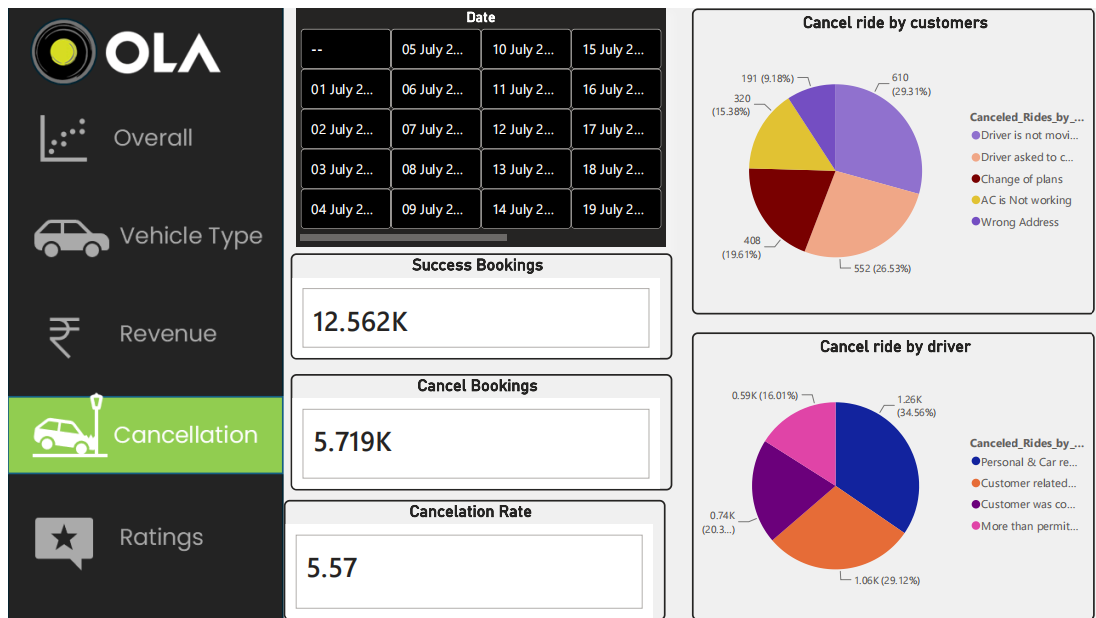

The page's visual inventory and layout, read from the dashboard file:
{"tool":"powerbi","page":{"name":"cancellation","canvas":[1280,720],"ordinal":3},"visuals":[{"type":"pieChart","title":"Cancel ride by customers","fields":{"Category":["July.Canceled_Rides_by_Customer"],"Y":["CountNonNull(July.Canceled_Rides_by_Customer)"]},"box":[803.6,0,475.7,360.1],"z":0},{"type":"pieChart","title":"Cancel ride by driver","fields":{"Category":["July.Canceled_Rides_by_Driver"],"Y":["CountNonNull(July.Canceled_Rides_by_Driver)"]},"box":[803.6,381,475.7,339.3],"z":1000},{"type":"advancedSlicerVisual","fields":{"Values":["July.Date"]},"box":[339.3,0,434,280.5],"z":2000},{"type":"cardVisual","title":"Success Bookings","fields":{"Data":["Count(July.Customer_ID)"]},"box":[331.7,288.1,449.2,125.1],"z":3000},{"type":"cardVisual","title":"Cancel Bookings","fields":{"Data":["Count(July.Customer_ID)"]},"box":[331.7,430.3,449.2,136.5],"z":4000},{"type":"cardVisual","title":"Cancelation Rate","fields":{"Data":["July.cancelpercentage"]},"box":[324.1,578.1,449.2,142.2],"z":5000}]}

Visuals, with their boxes on the page's 1280x720 design canvas (x1, y1, x2, y2). These are canvas units, not pixel positions in the 1096x618 screenshot, which may show the page scaled, cropped or inside an application window:
"Cancel ride by customers" pieChart: select_region(804, 0, 1279, 360)
"Cancel ride by driver" pieChart: select_region(804, 381, 1279, 720)
advancedSlicerVisual - July.Date: select_region(339, 0, 773, 280)
"Success Bookings" cardVisual: select_region(332, 288, 781, 413)
"Cancel Bookings" cardVisual: select_region(332, 430, 781, 567)
"Cancelation Rate" cardVisual: select_region(324, 578, 773, 720)
